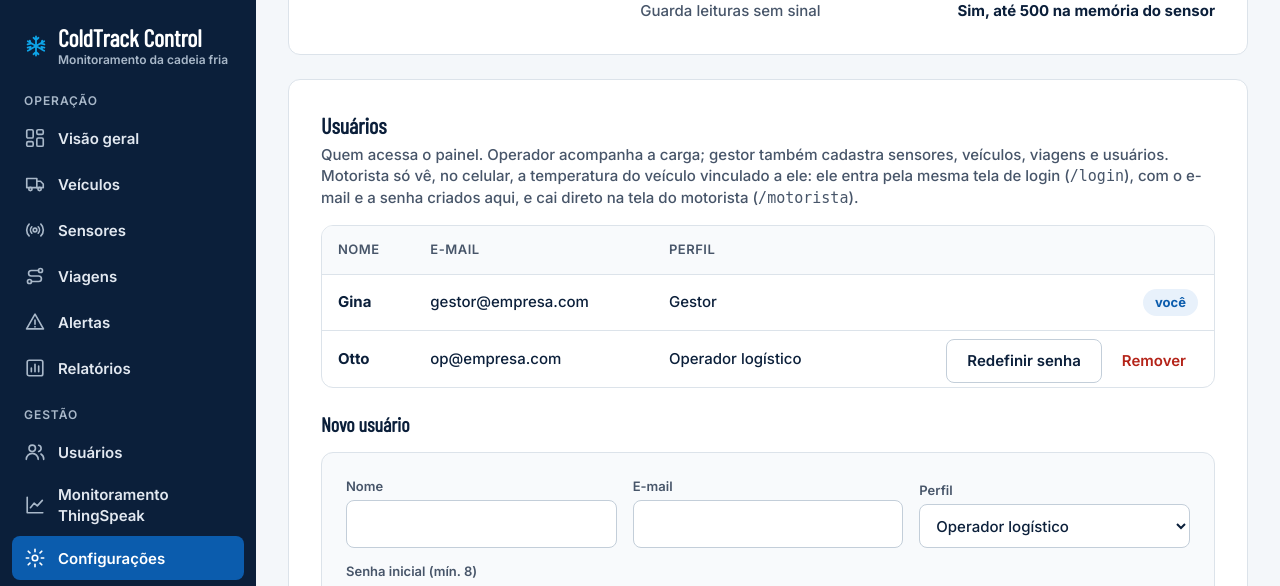
Test: Configurações: redefinir senha de usuário › abre o diálogo, redefine e avisa
(page scrolled)
Click the button "Redefinir senha" at (1024,361), box [946, 339, 1102, 383]
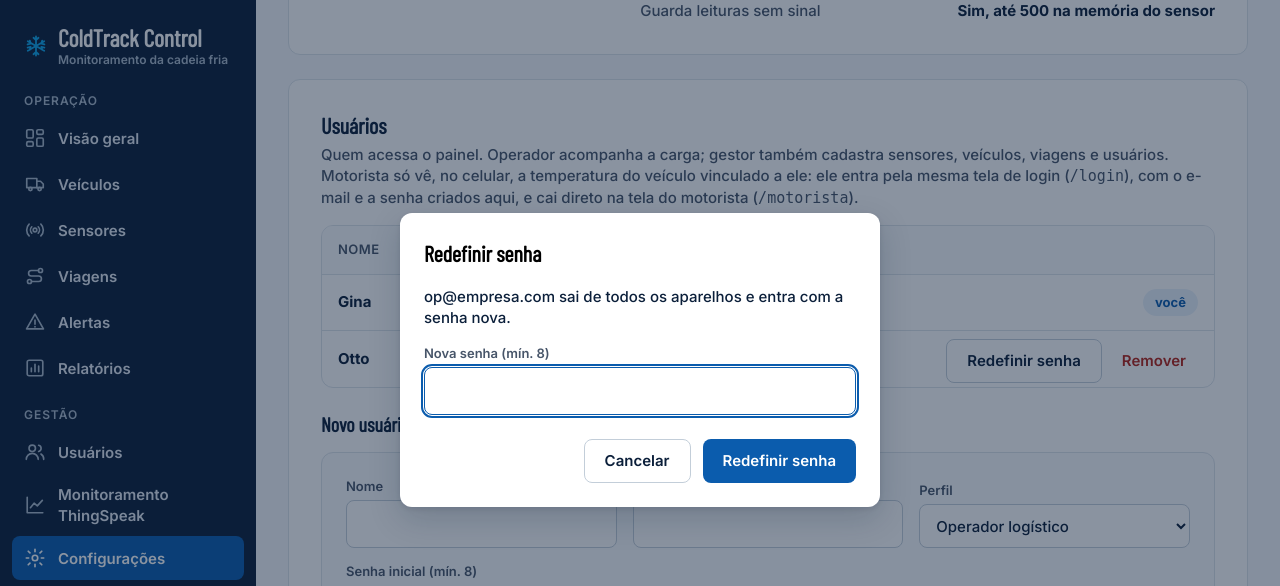
Type "outra12345" into the password field labelled "Nova senha (mín. 8)" at (640,391), box [424, 367, 856, 415]
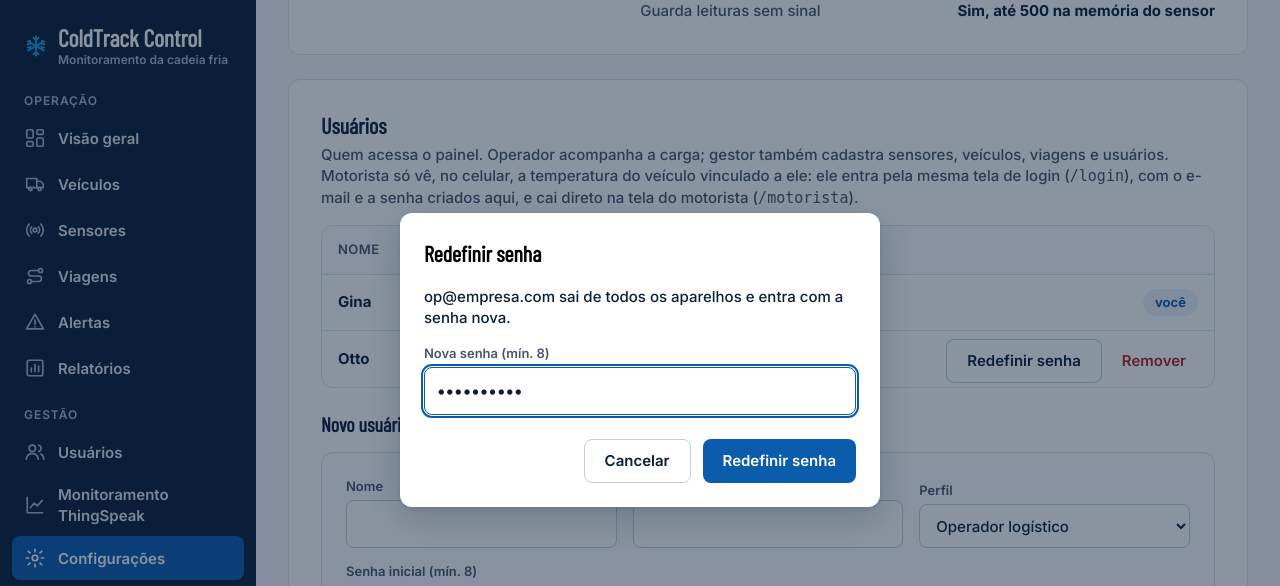
Click the button "Redefinir senha" at (779,461), box [702, 439, 856, 483]
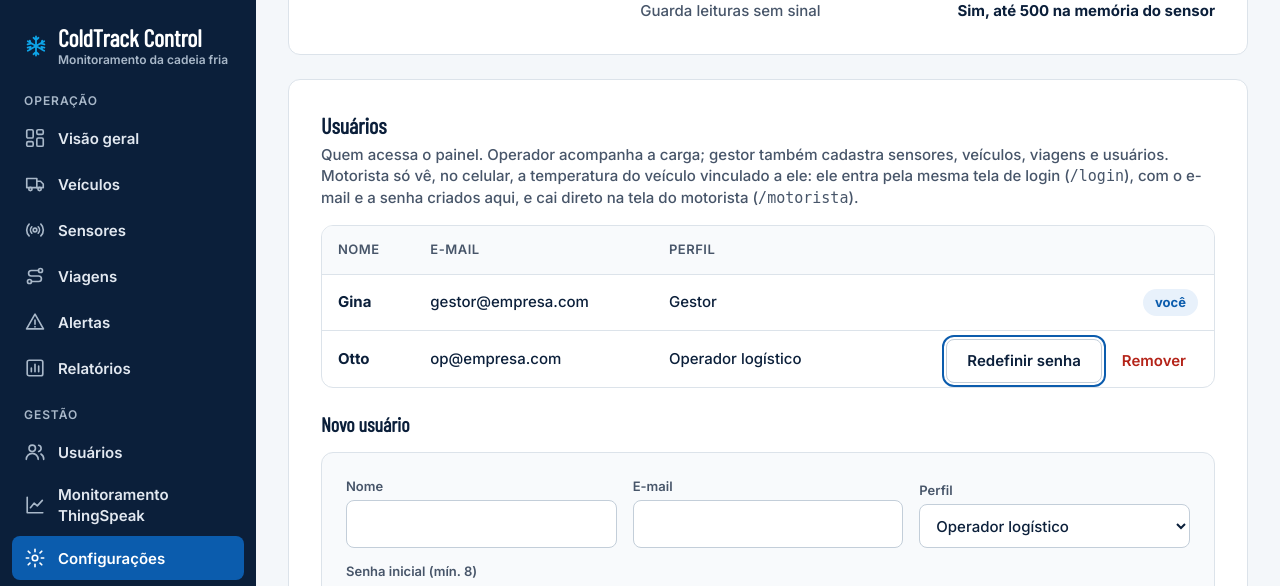
Expected: the dialog with id "redefinir" is gone
